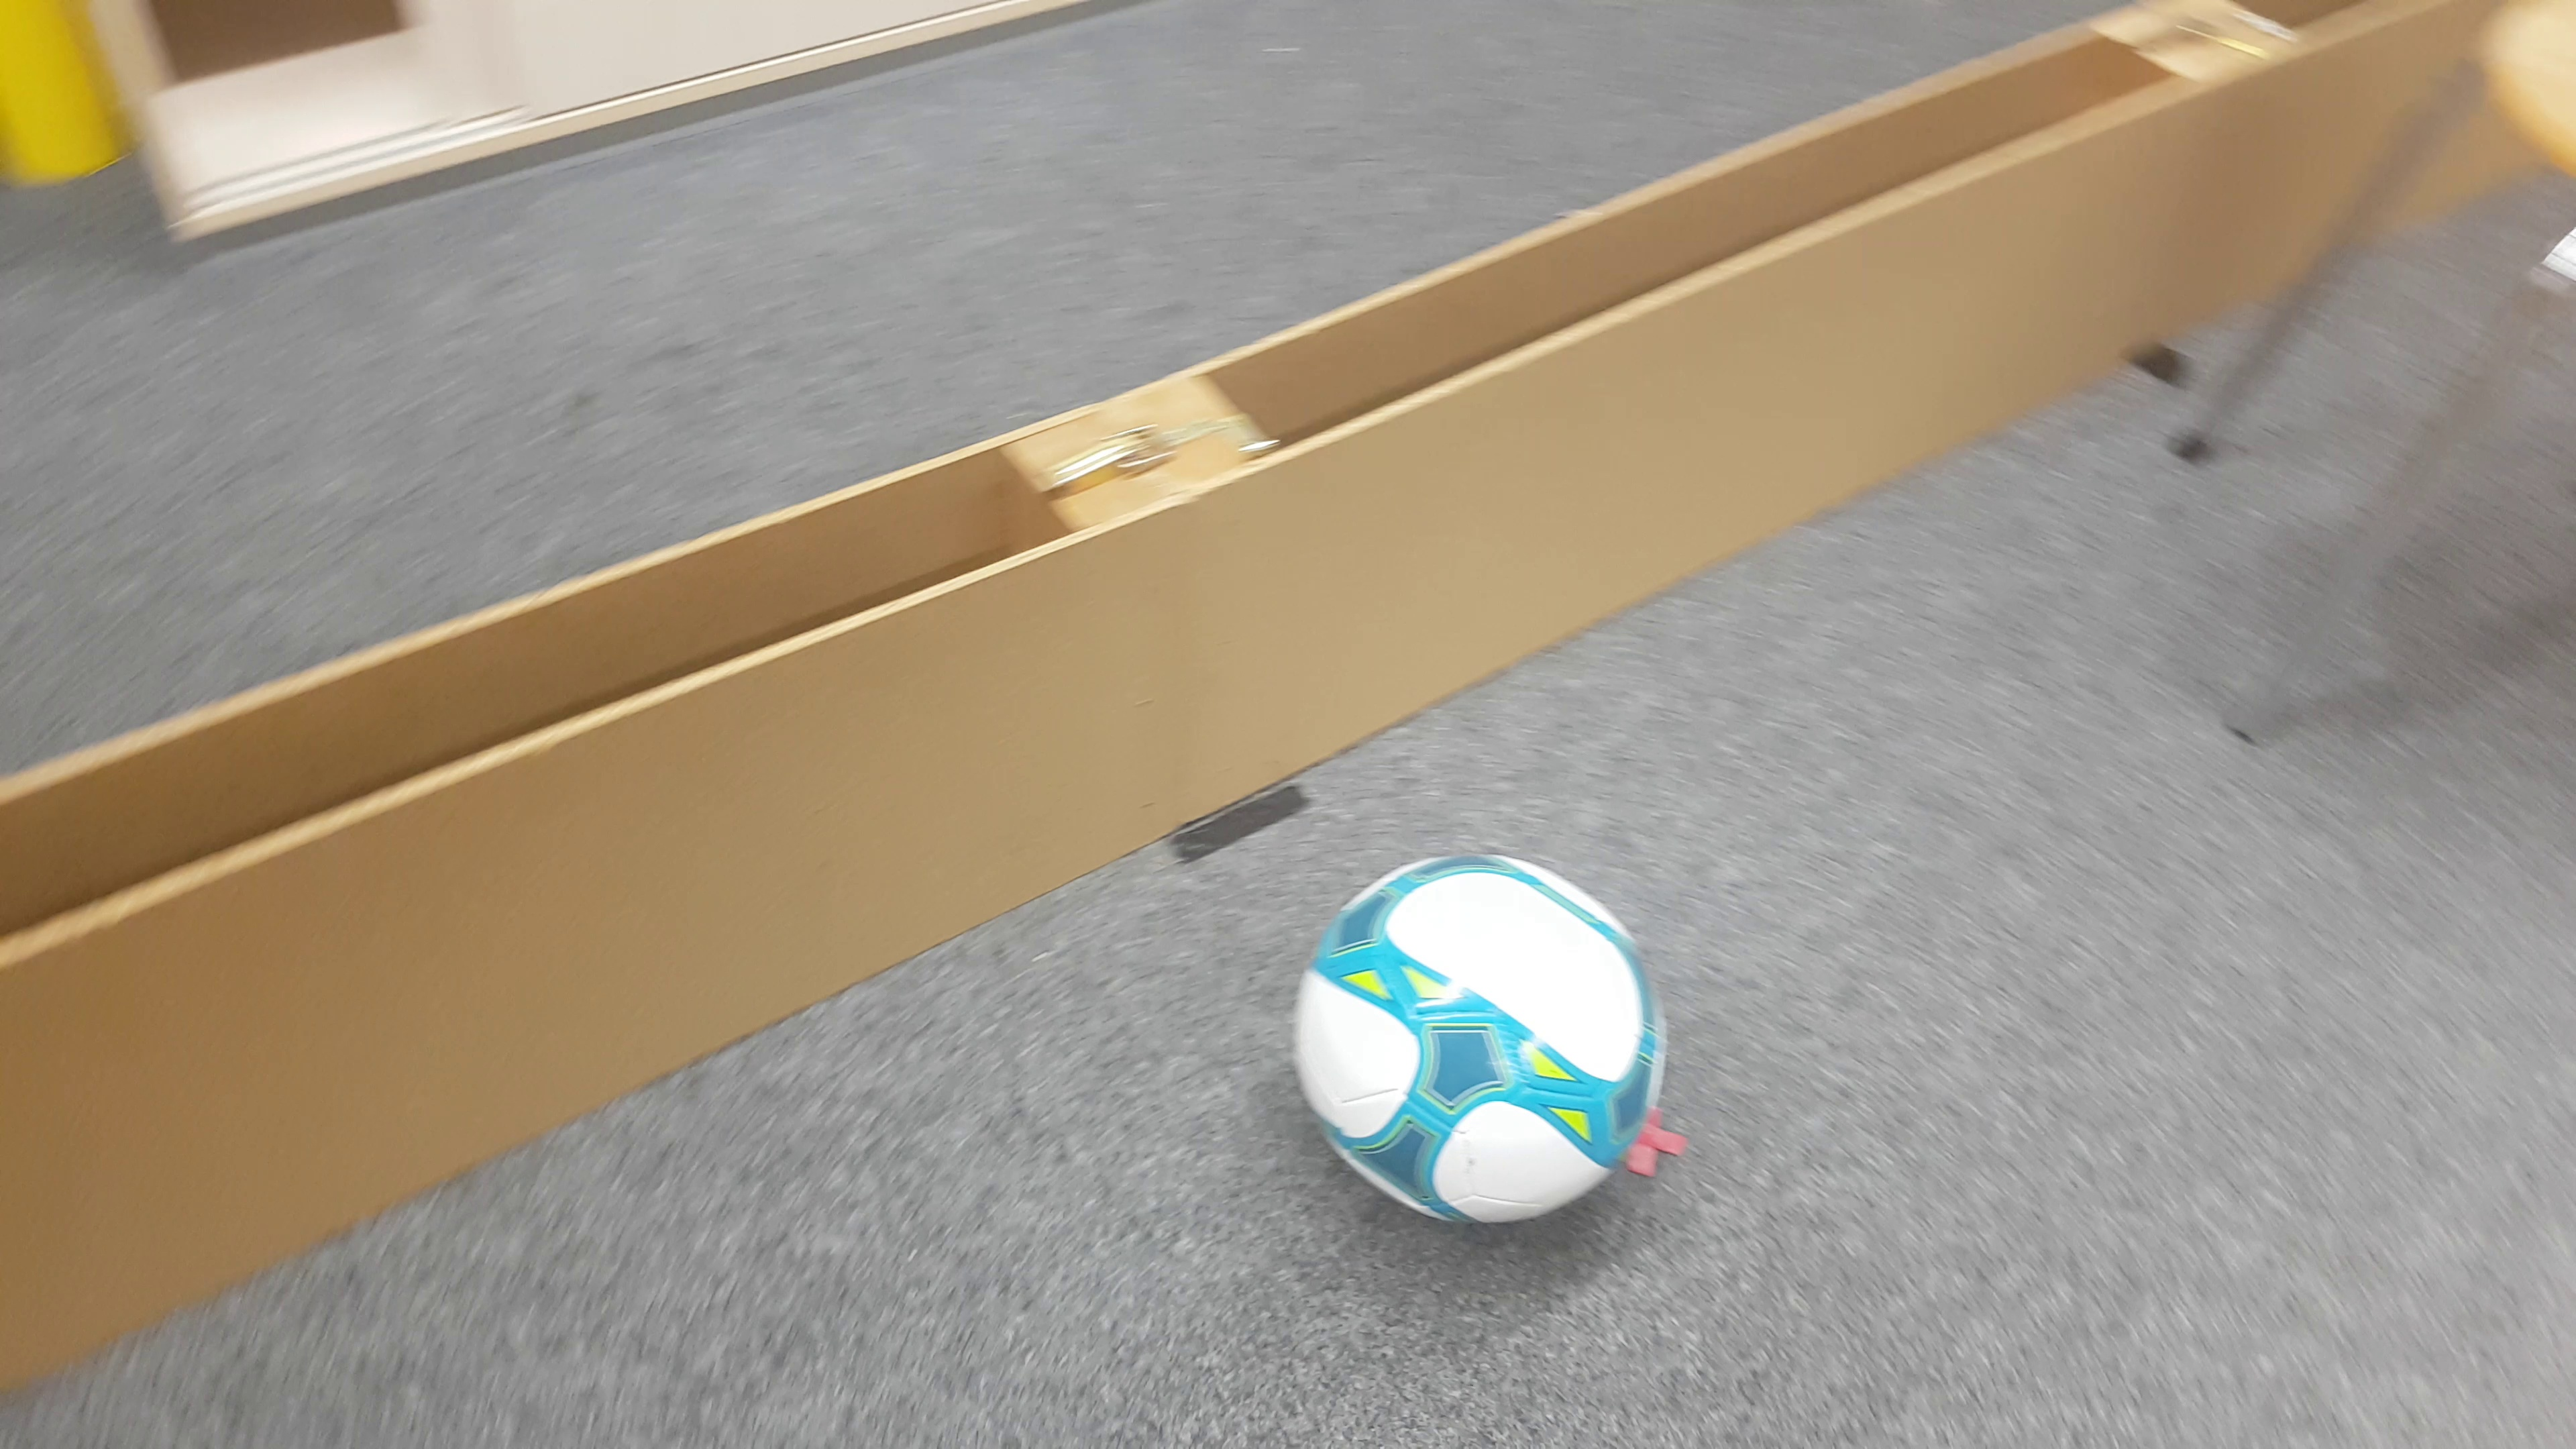kick: (1295, 849, 1668, 1238)
